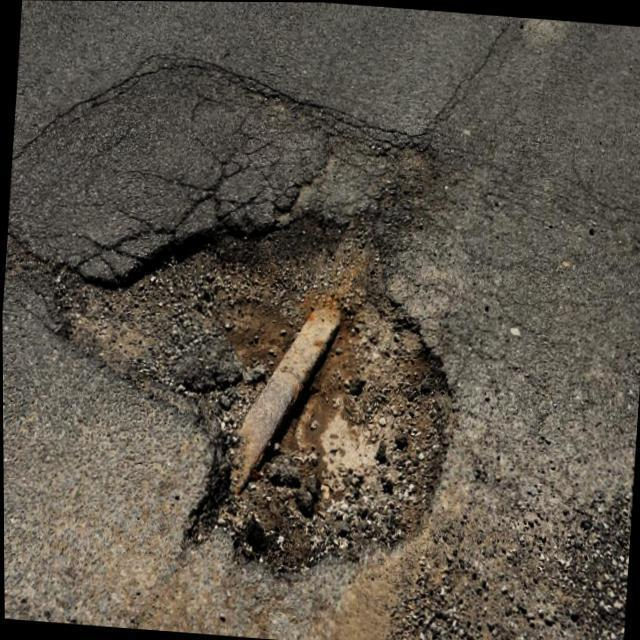Pothole: (42, 218, 451, 567)
